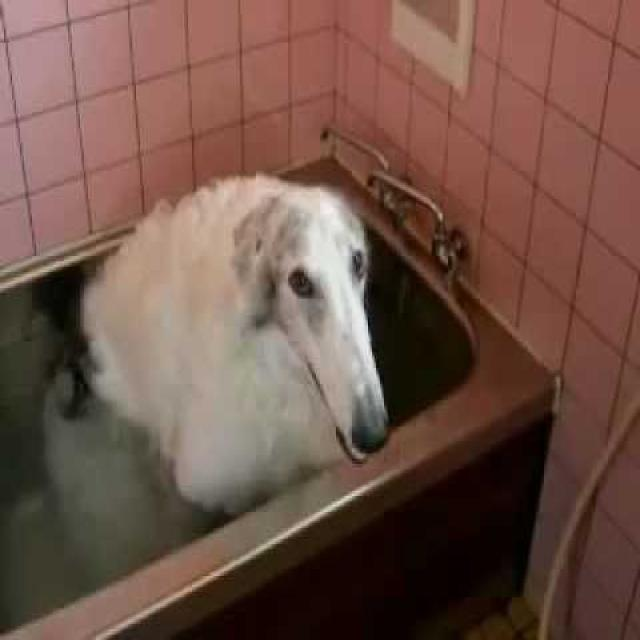dog: (170, 177, 461, 519)
